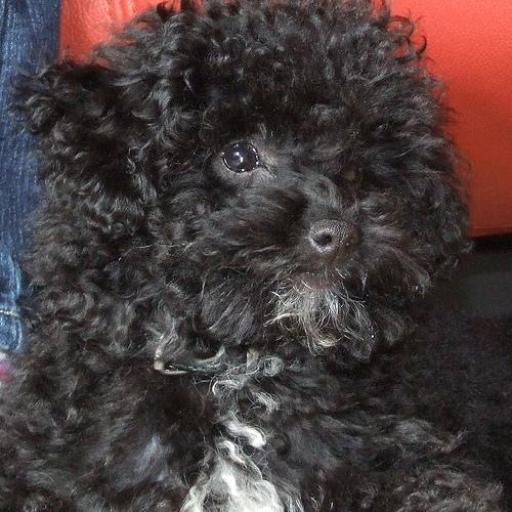dog_face: (29, 16, 425, 346)
